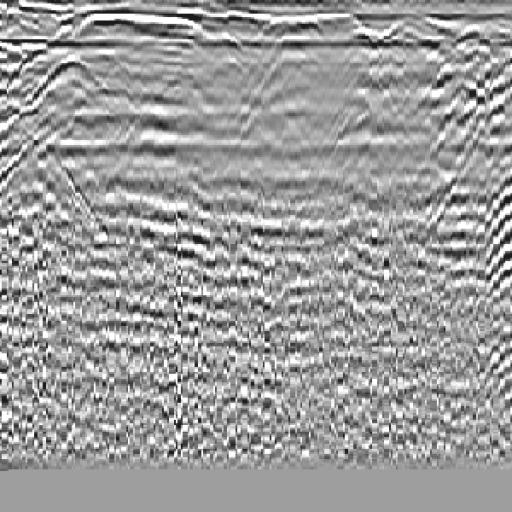non-metallic: (1, 41, 167, 256), (433, 70, 512, 345)
